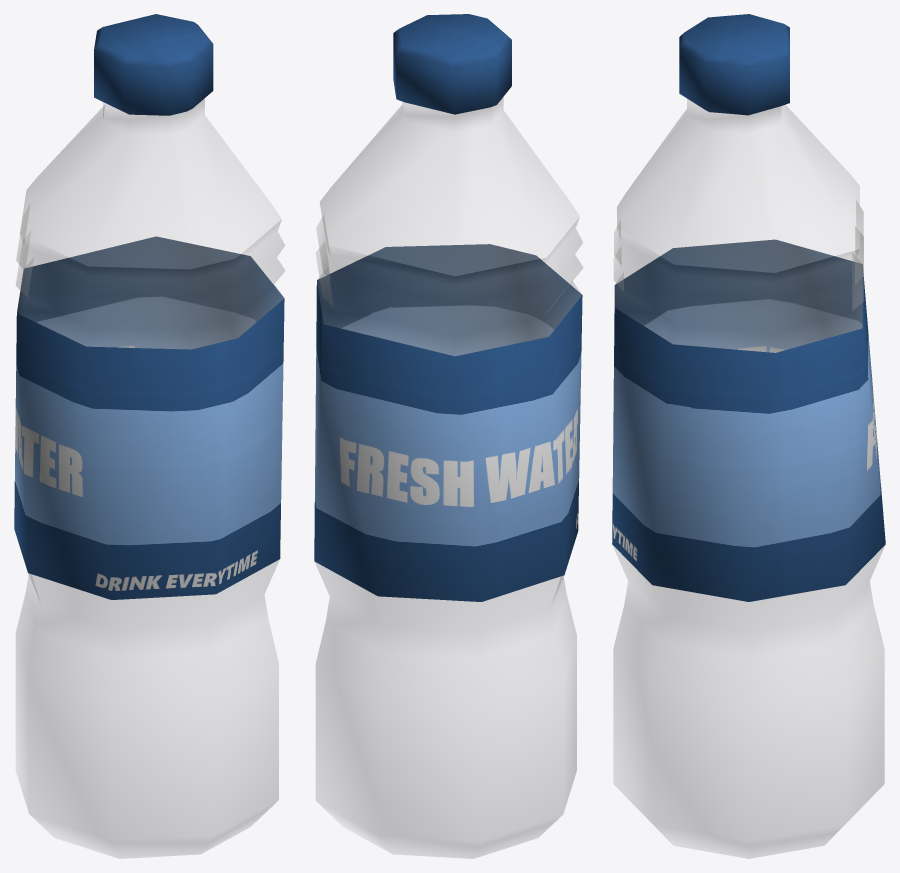
The model's file is lowpolly_water_bottle.glb.
3 views of the same model, side by side, from view 1: azimuth 30°, elevation 25°; view 2: azimuth 150°, elevation 25°; view 3: azimuth 270°, elevation 25° (orthographic).
Visible parts, largest first — view 1: Bottle_0; view 2: Bottle_0; view 3: Bottle_0.
Part boxes in pixels (bbox=[...]): Bottle_0: bbox=[14, 14, 285, 858]; Bottle_0: bbox=[314, 14, 583, 858]; Bottle_0: bbox=[612, 14, 885, 858].
Bounding box in the file's own units: 4.01 × 12.63 × 4.01.
Materials: 3 (2 with a texture image).
